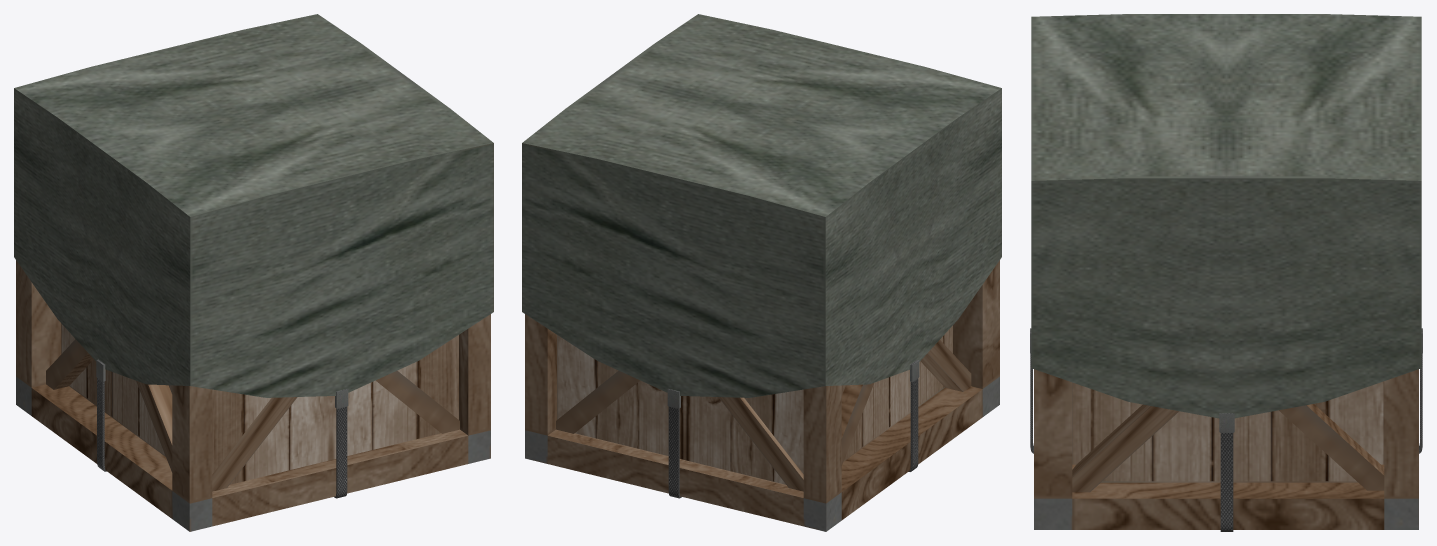
The model's file is wooden_crate_4.glb.
3 renders of one model, left to right at view 1: azimuth 30°, elevation 25°; view 2: azimuth 150°, elevation 25°; view 3: azimuth 270°, elevation 25°, orthographic. The views are drawn at different scales.
Parts seen in each view (by area): view 1: wooden_crate_4; view 2: wooden_crate_4; view 3: wooden_crate_4.
Part boxes in pixels (box(x1,y1,x2,y2)): wooden_crate_4: box(14, 14, 493, 531); wooden_crate_4: box(522, 14, 1001, 531); wooden_crate_4: box(1030, 14, 1422, 531).
Bounding box in the file's own units: 1.29 × 1.29 × 1.29.
Materials: 1 (1 with a texture image).
